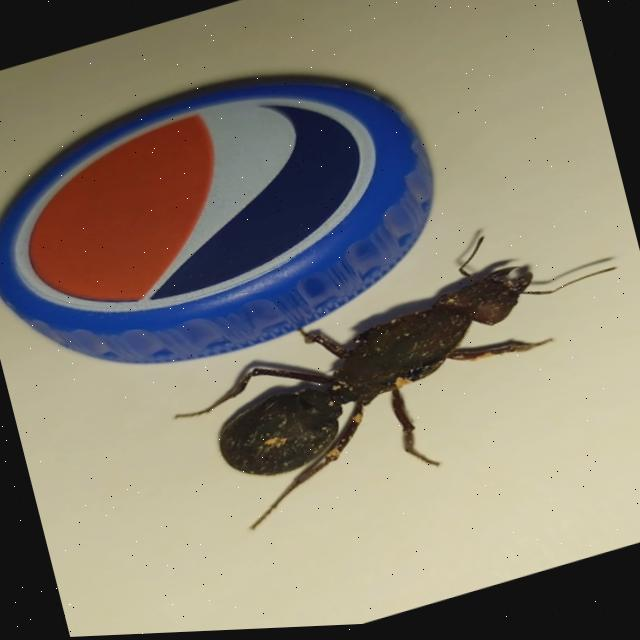Alive-Female-Dealate: (151, 206, 640, 548)
